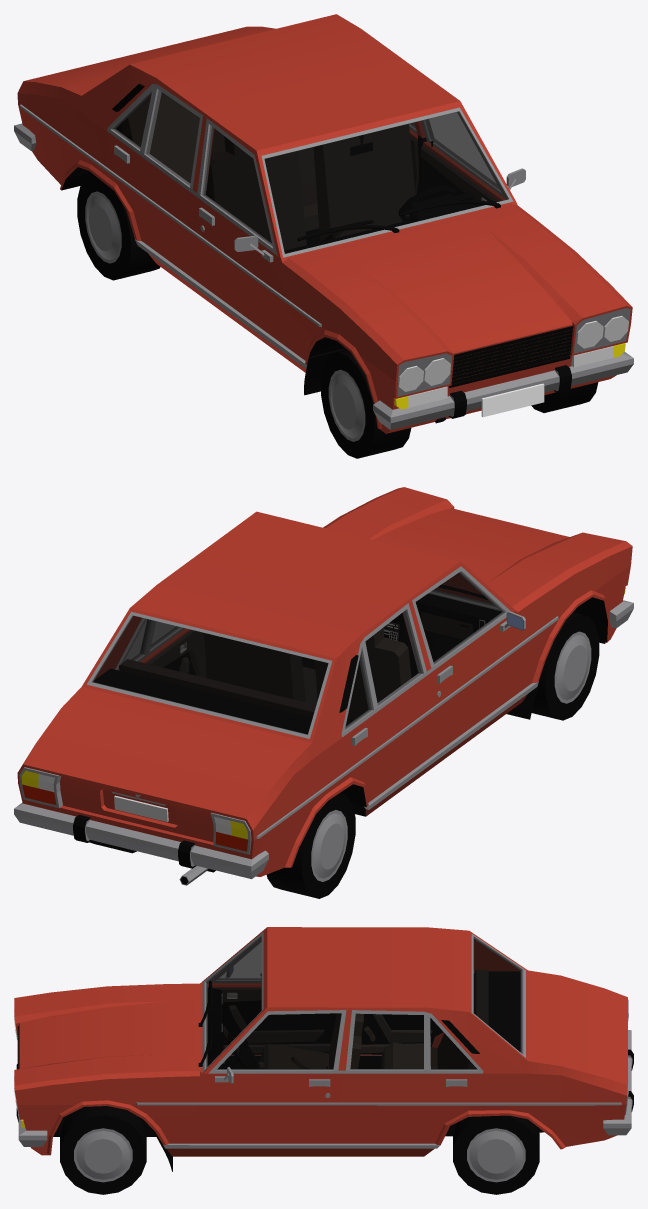
File: Car07.fbx
3 renders of one model, top to bottom at view 1: azimuth 30°, elevation 25°; view 2: azimuth 150°, elevation 25°; view 3: azimuth 270°, elevation 25°, orthographic. The views are drawn at different scales.
Visible parts, largest first — view 1: mdl_car02_body, mdl_car02_door_FR, mdl_car02_door_BR, mdl_car02_wheel_FR, mdl_car02_wheel_BR, mdl_car02_door_FL, mdl_car02_wheel_FL; view 2: mdl_car02_body, mdl_car02_door_FR, mdl_car02_door_BR, mdl_car02_wheel_BR, mdl_car02_wheel_FR, mdl_car02_door_BL; view 3: mdl_car02_body, mdl_car02_door_FL, mdl_car02_door_BL, mdl_car02_wheel_FL, mdl_car02_wheel_BL, mdl_car02_door_FR, mdl_car02_door_BR, mdl_car02_steering_wheel.
Boxes of the visible parts, bbox=[...] form: mdl_car02_body: bbox=[14, 14, 633, 433]; mdl_car02_door_FR: bbox=[194, 118, 286, 346]; mdl_car02_door_BR: bbox=[107, 83, 203, 282]; mdl_car02_wheel_FR: bbox=[321, 350, 411, 458]; mdl_car02_wheel_BR: bbox=[77, 174, 160, 280]; mdl_car02_door_FL: bbox=[421, 112, 525, 201]; mdl_car02_wheel_FL: bbox=[531, 382, 598, 412]; mdl_car02_body: bbox=[14, 487, 633, 885]; mdl_car02_door_FR: bbox=[412, 566, 525, 760]; mdl_car02_door_BR: bbox=[341, 603, 433, 802]; mdl_car02_wheel_BR: bbox=[266, 793, 355, 898]; mdl_car02_wheel_FR: bbox=[531, 612, 599, 720]; mdl_car02_door_BL: bbox=[115, 618, 206, 677]; mdl_car02_body: bbox=[14, 927, 633, 1171]; mdl_car02_door_FL: bbox=[195, 1010, 346, 1143]; mdl_car02_door_BL: bbox=[338, 1010, 483, 1143]; mdl_car02_wheel_FL: bbox=[60, 1106, 146, 1194]; mdl_car02_wheel_BL: bbox=[453, 1115, 539, 1194]; mdl_car02_door_FR: bbox=[208, 938, 334, 1054]; mdl_car02_door_BR: bbox=[360, 972, 474, 1055]; mdl_car02_steering_wheel: bbox=[228, 1032, 260, 1068].
Bounding box in the file's own units: 197 × 147 × 451.
